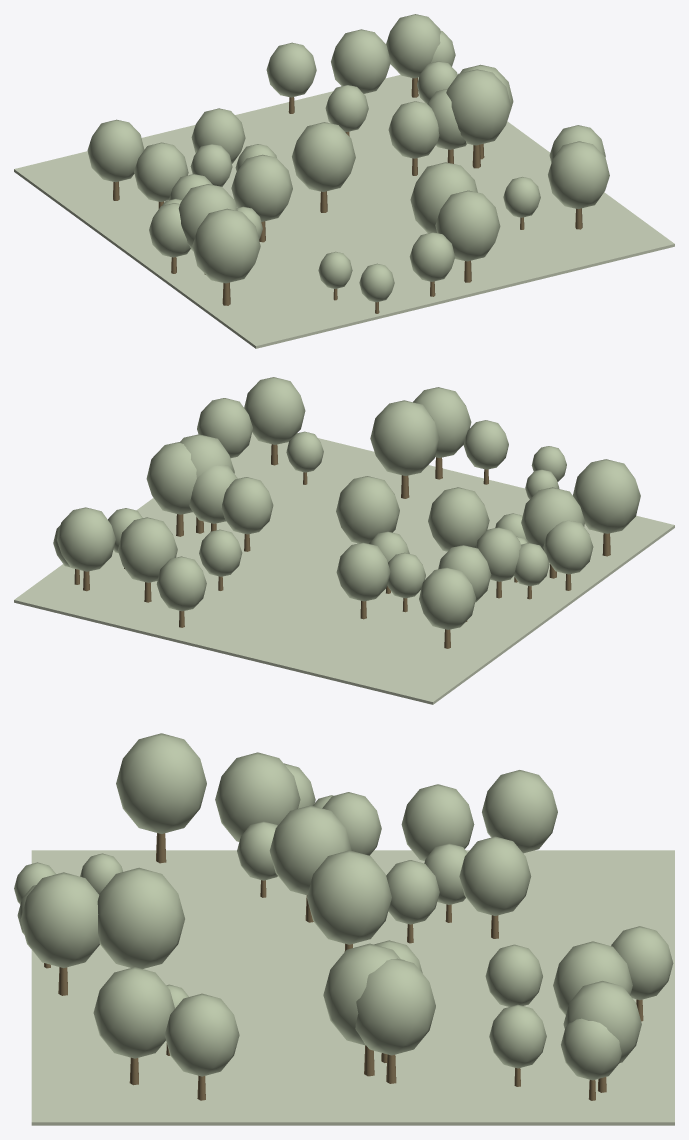
3 views of the same model, one above another, from view 1: azimuth 30°, elevation 25°; view 2: azimuth 150°, elevation 25°; view 3: azimuth 270°, elevation 25° (orthographic). The views are drawn at different scales.
Parts seen in each view (by area): view 1: terrain, lod-near-15, lod-near-25, lod-near-31, lod-near-5, lod-near-26, lod-near-11, lod-near-1, lod-near-13, lod-near-3, lod-near-30, lod-near-27 (+16 smaller); view 2: terrain, lod-near-30, lod-near-15, lod-near-31, lod-near-26, lod-near-11, lod-near-3, lod-near-1, lod-near-13, lod-near-14, lod-near-8, lod-near-5 (+18 smaller); view 3: terrain, lod-near-30, lod-near-15, lod-near-31, lod-near-5, lod-near-14, lod-near-26, lod-near-24, lod-near-2, lod-near-13, lod-near-11, lod-near-8 (+15 smaller).
Part boxes in pixels (left/top/right/bottom): terrain: left=14, top=75, right=674, bottom=348; lod-near-15: left=192, top=208, right=260, bottom=283; lod-near-25: left=446, top=69, right=511, bottom=145; lod-near-31: left=292, top=122, right=355, bottom=191; lod-near-5: left=435, top=190, right=500, bottom=261; lod-near-26: left=548, top=141, right=609, bottom=209; lod-near-11: left=231, top=154, right=292, bottom=221; lod-near-1: left=331, top=29, right=390, bottom=93; lod-near-13: left=87, top=119, right=144, bottom=182; lod-near-3: left=386, top=14, right=440, bottom=78; lod-near-30: left=410, top=162, right=477, bottom=233; lod-near-27: left=134, top=142, right=188, bottom=201; terrain: left=14, top=432, right=674, bottom=704; lod-near-30: left=370, top=400, right=439, bottom=475; lod-near-15: left=573, top=459, right=640, bottom=533; lod-near-31: left=336, top=476, right=399, bottom=543; lod-near-26: left=244, top=377, right=305, bottom=444; lod-near-11: left=428, top=487, right=489, bottom=551; lod-near-3: left=57, top=507, right=115, bottom=571; lod-near-1: left=118, top=517, right=177, bottom=582; lod-near-13: left=419, top=567, right=476, bottom=629; lod-near-14: left=146, top=442, right=196, bottom=514; lod-near-8: left=336, top=542, right=390, bottom=601; lod-near-5: left=413, top=387, right=471, bottom=457; terrain: left=31, top=850, right=674, bottom=1125; lod-near-30: left=97, top=867, right=184, bottom=968; lod-near-15: left=116, top=733, right=206, bottom=833; lod-near-31: left=307, top=850, right=391, bottom=944; lod-near-5: left=20, top=872, right=99, bottom=968; lod-near-14: left=355, top=958, right=435, bottom=1055; lod-near-26: left=93, top=967, right=174, bottom=1058; lod-near-24: left=215, top=752, right=300, bottom=841; lod-near-2: left=164, top=993, right=239, bottom=1076; lod-near-13: left=482, top=770, right=557, bottom=853; lod-near-11: left=269, top=805, right=351, bottom=895; lod-near-8: left=459, top=836, right=531, bottom=915.
Bounding box in the file's own units: 32.78 × 7.3 × 32.88.
